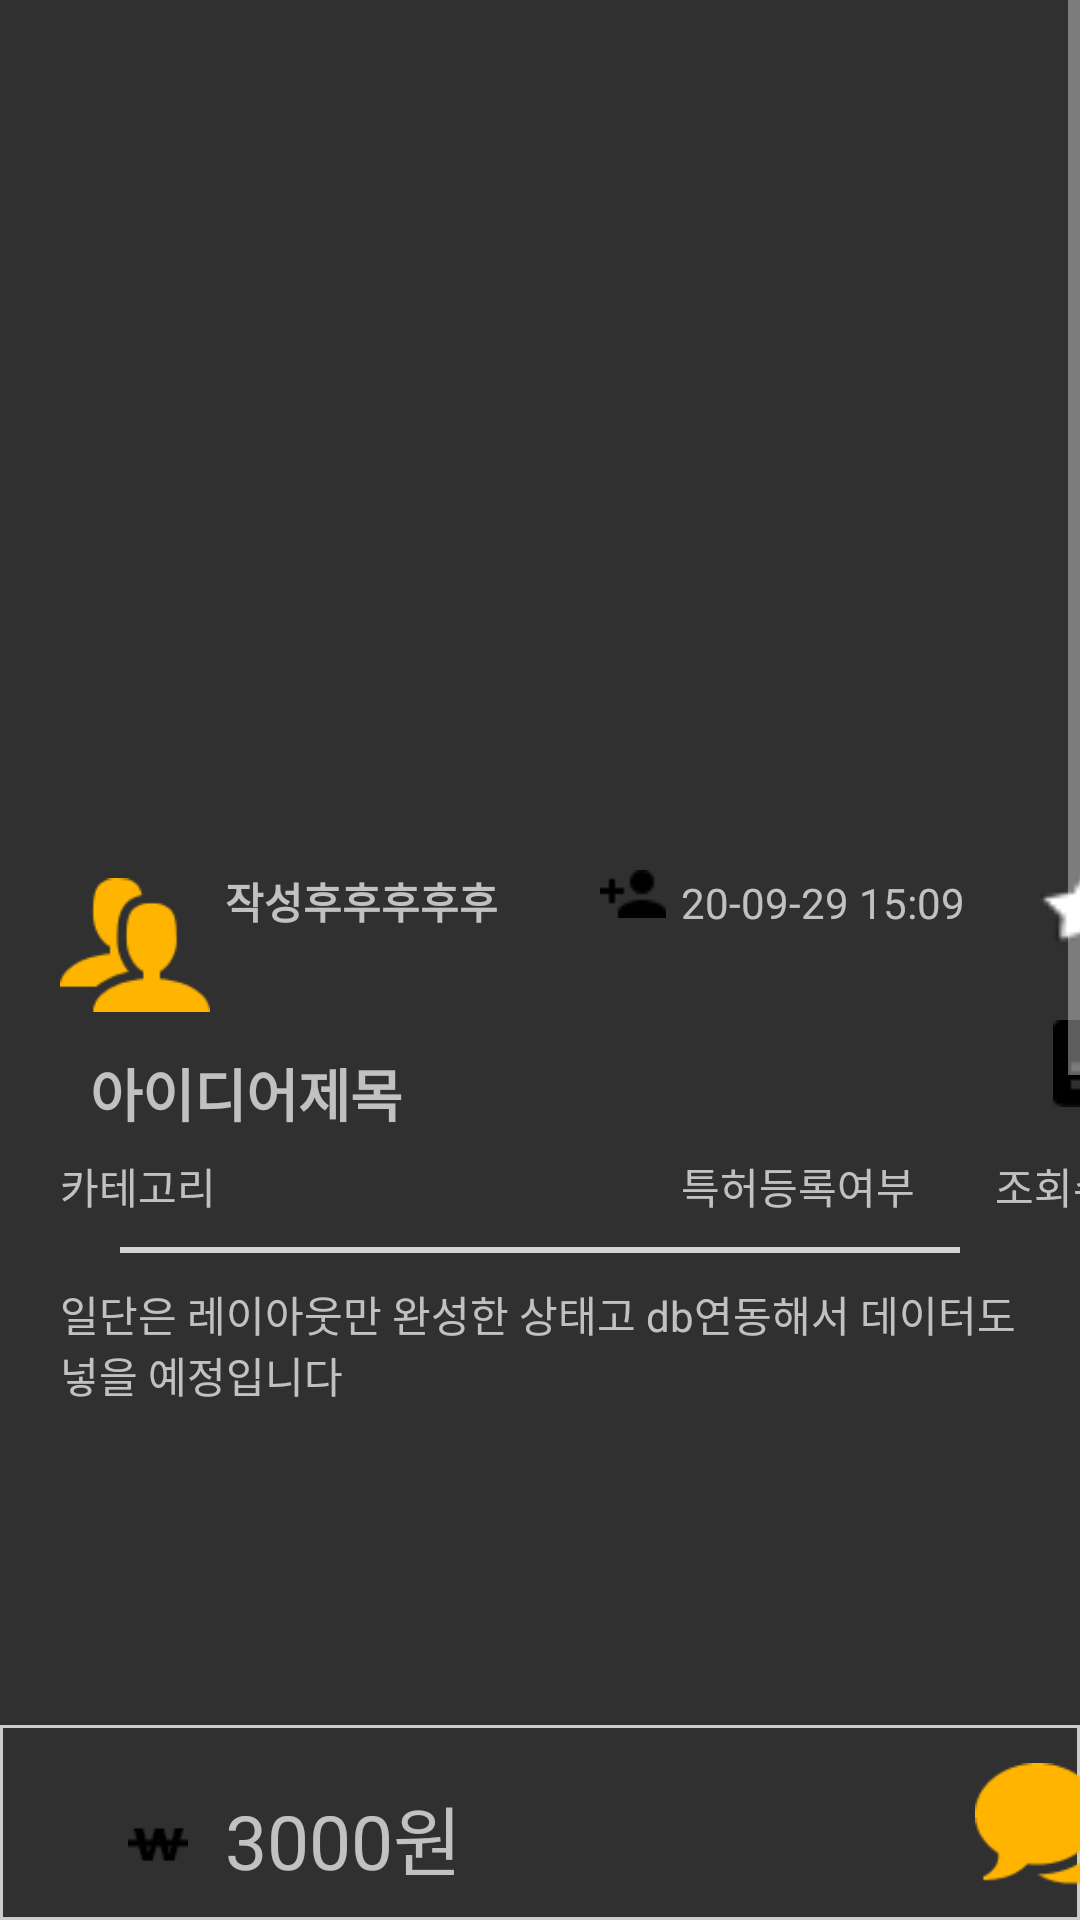

Screen size 1080px x 1920px. Icon name, then its center in pixels as point (x, y):
friendplus: point (633, 894)
together: point (135, 945)
won: point (158, 1844)
